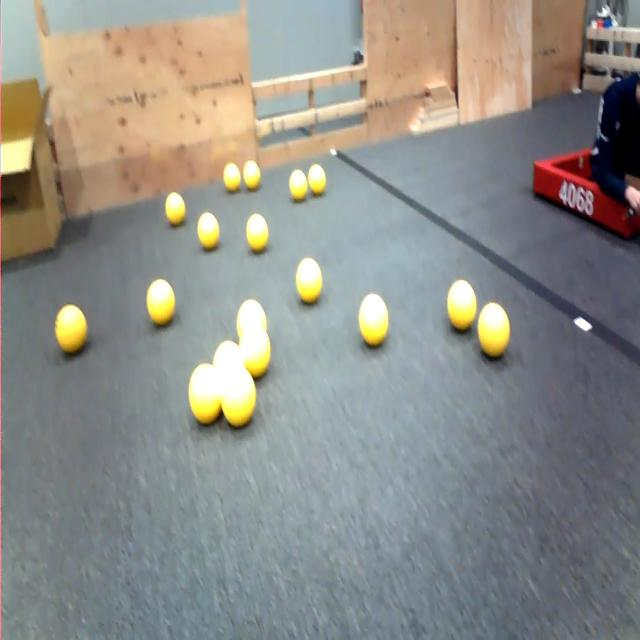fuel: (221, 367, 256, 428), (188, 364, 221, 424), (477, 303, 510, 358), (239, 324, 270, 378), (55, 304, 87, 354), (359, 294, 388, 346), (447, 280, 476, 331), (147, 280, 175, 326), (296, 257, 322, 304), (237, 299, 267, 339), (213, 341, 244, 375), (197, 212, 219, 250), (246, 214, 268, 252), (165, 192, 185, 226), (289, 169, 307, 201), (308, 164, 326, 196), (243, 160, 260, 191), (223, 163, 241, 192)
